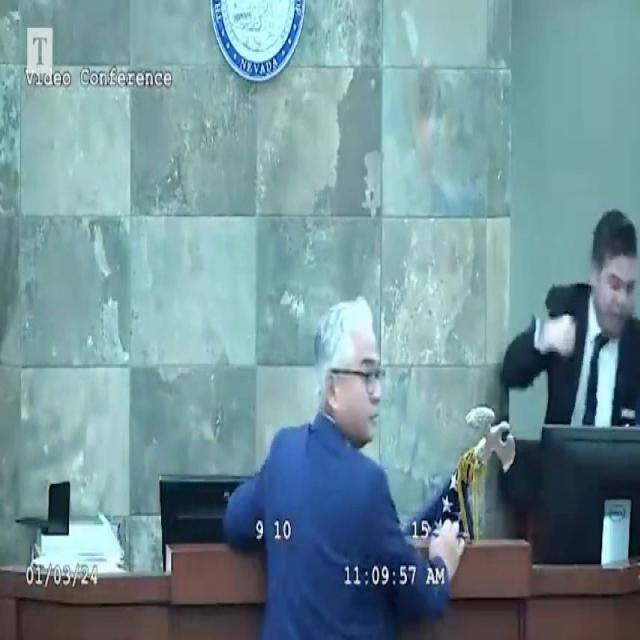fight: (496, 200, 640, 573)
non-fight: (226, 277, 482, 640)
